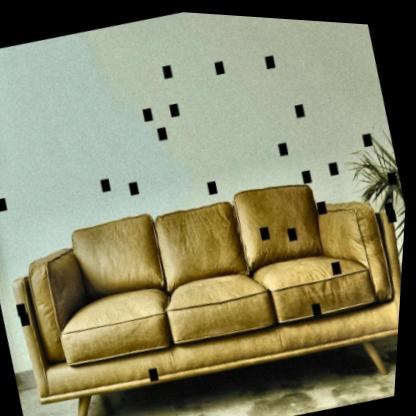Sofa: (7, 143, 409, 416)
